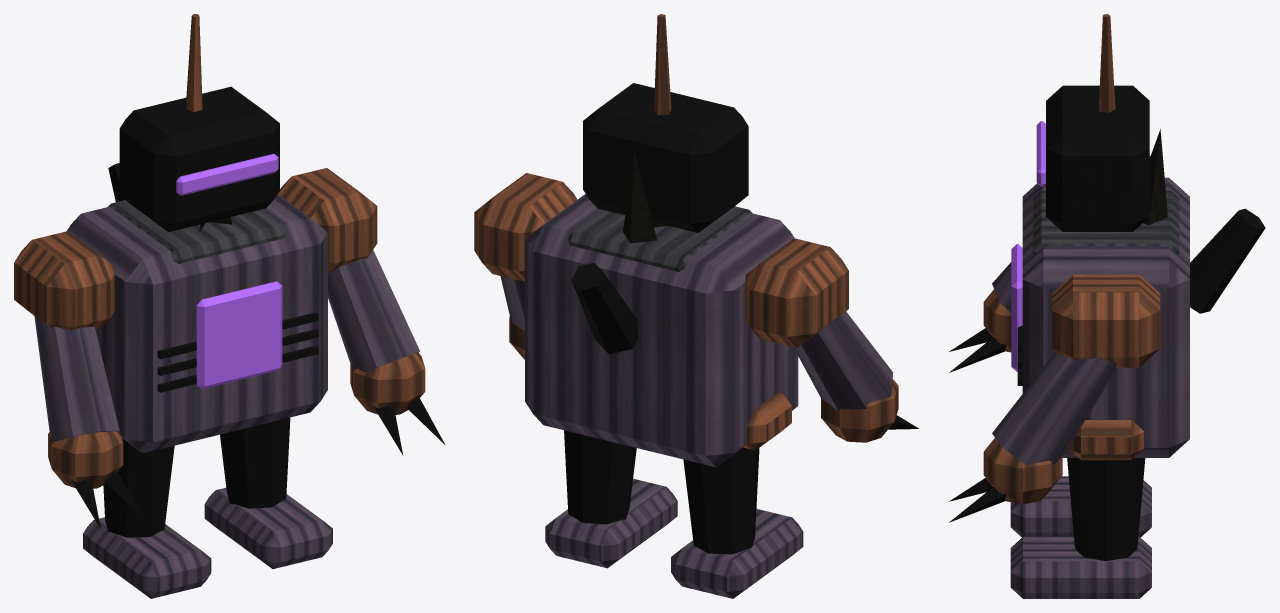
The model's file is boss_08.glb.
3 renders of one model, left to right at view 1: azimuth 30°, elevation 25°; view 2: azimuth 150°, elevation 25°; view 3: azimuth 270°, elevation 25°, orthographic. The views are drawn at different scales.
Visible parts, largest first — view 1: boss_08; view 2: boss_08; view 3: boss_08.
Boxes of the visible parts, bbox=[...] form: boss_08: bbox=[14, 14, 444, 598]; boss_08: bbox=[474, 14, 918, 598]; boss_08: bbox=[949, 14, 1265, 598].
Bounding box in the file's own units: 1.88 × 2.58 × 1.37.
Materials: 6 (6 with a texture image).
